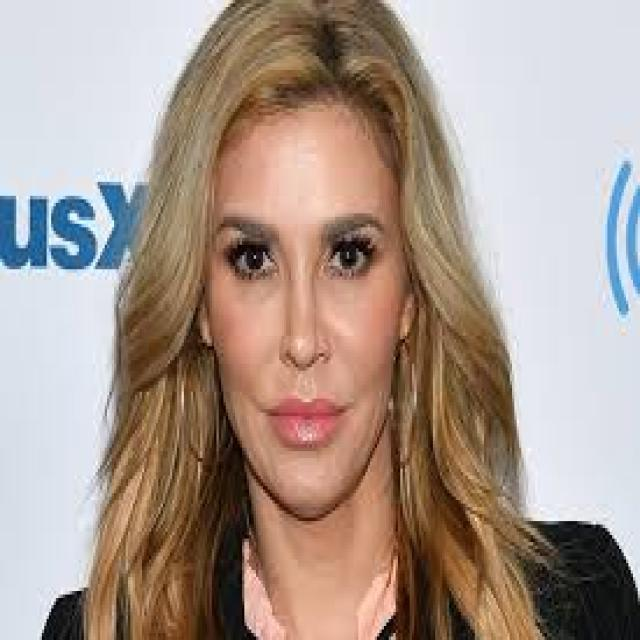normal_face: (178, 24, 415, 517)
